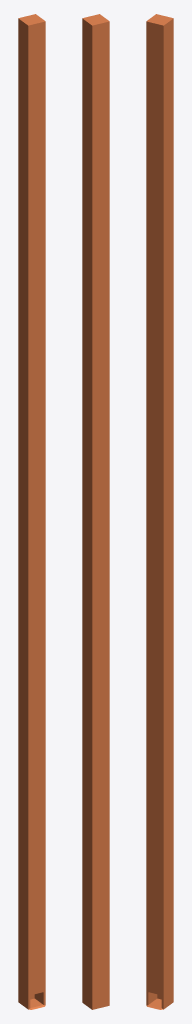
Rendered from ElevatorExteriorBottom.fbx.
3 views of the same model, side by side, from view 1: azimuth 30°, elevation 25°; view 2: azimuth 210°, elevation 25°; view 3: azimuth 330°, elevation 25° (orthographic).
Parts seen in each view (by area): view 1: ElevatorExteriorBottom; view 2: ElevatorExteriorBottom; view 3: ElevatorExteriorBottom.
Part boxes in pixels (box(x1,y1,x2,y2)): ElevatorExteriorBottom: box(18, 14, 45, 1009); ElevatorExteriorBottom: box(82, 14, 109, 1009); ElevatorExteriorBottom: box(146, 14, 173, 1009).
Size of the model in its own units: 400 by 21500 by 450.
